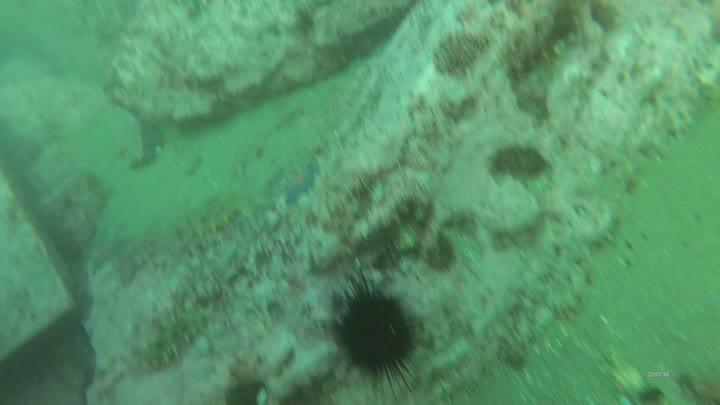urchin: (322, 271, 434, 393)
